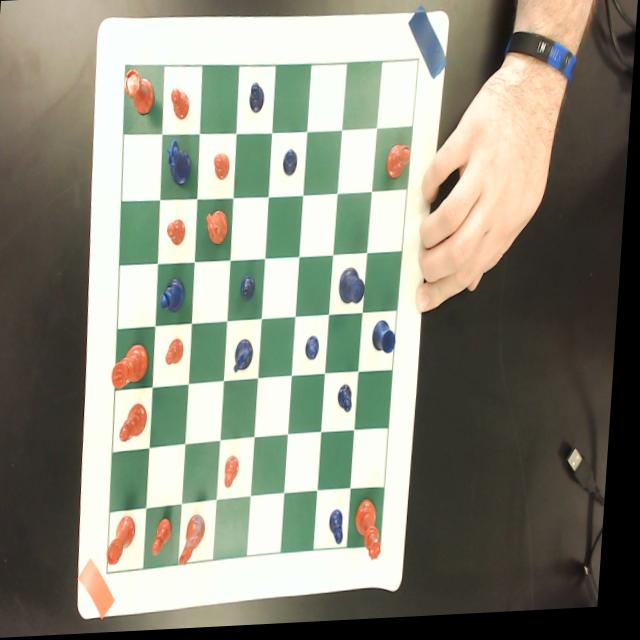B: (163, 278, 189, 315)
K: (341, 269, 369, 308)
N: (165, 136, 195, 190), (236, 338, 259, 379)
P: (334, 511, 352, 549), (249, 82, 267, 117), (341, 387, 358, 417), (284, 150, 299, 181), (308, 338, 325, 364), (243, 277, 259, 303)
R: (375, 322, 401, 359)
b: (123, 400, 153, 446), (385, 142, 417, 185)
k: (115, 342, 154, 390)
n: (185, 515, 213, 569), (205, 208, 232, 249)
p: (158, 518, 180, 559), (170, 87, 192, 124), (168, 218, 190, 248), (228, 456, 246, 491), (169, 339, 189, 368), (214, 154, 232, 184)
q: (360, 501, 391, 566)
r: (123, 63, 157, 117), (113, 514, 143, 568)
